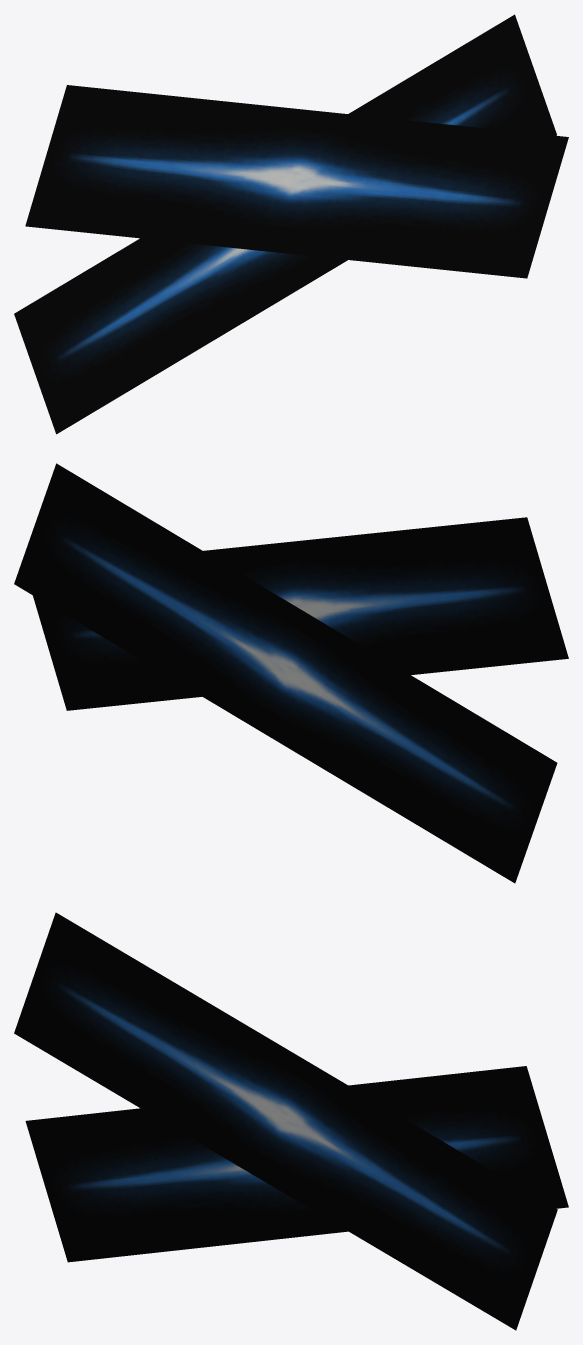
Rendered from effect_luxun_2.FBX.
3 renders of one model, top to bottom at view 1: azimuth 30°, elevation 25°; view 2: azimuth 150°, elevation 25°; view 3: azimuth 330°, elevation 25°, orthographic.
Visible parts, largest first — view 1: effect_luxun_2_2, effect_luxun_2_1; view 2: effect_luxun_2_1, effect_luxun_2_2; view 3: effect_luxun_2_2, effect_luxun_2_1.
Boxes of the visible parts, x1,y1,x2,y2 form: effect_luxun_2_2: (25,85,568,278); effect_luxun_2_1: (14,14,556,434); effect_luxun_2_1: (14,463,557,883); effect_luxun_2_2: (33,517,568,710); effect_luxun_2_2: (14,912,557,1330); effect_luxun_2_1: (25,1066,568,1262).
Bounding box in the file's own units: 170 × 107 × 6.2.
1 material, 1 textured.
